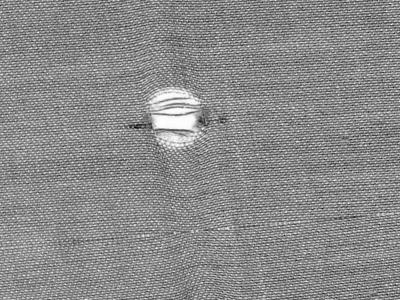hole: (144, 82, 205, 155)
